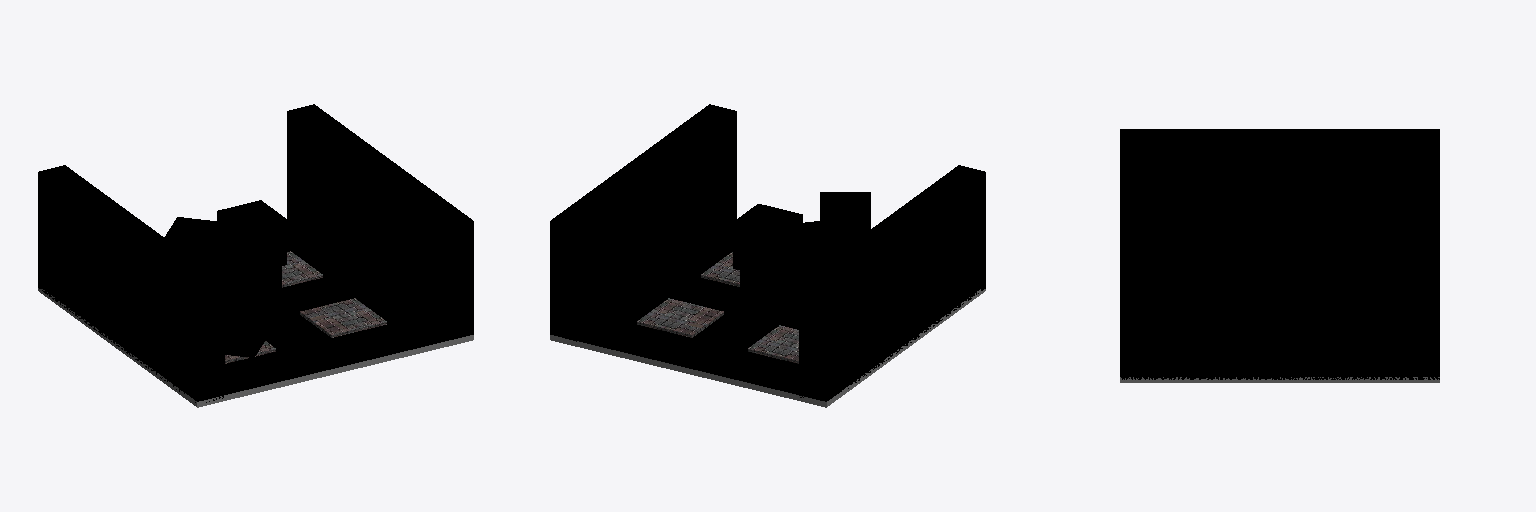
3 views of the same model, side by side, from view 1: azimuth 30°, elevation 25°; view 2: azimuth 150°, elevation 25°; view 3: azimuth 270°, elevation 25° (orthographic).
Parts seen in each view (by area): view 1: Gerade_Stein_Boxen; view 2: Gerade_Stein_Boxen; view 3: Gerade_Stein_Boxen.
Part boxes in pixels (x1,y1,x2,y2): Gerade_Stein_Boxen: (38,104,473,407); Gerade_Stein_Boxen: (550,104,985,407); Gerade_Stein_Boxen: (1120,129,1439,382).
Bounding box in the file's own units: 5 × 2.05 × 5.
Materials: 14 (1 with a texture image).